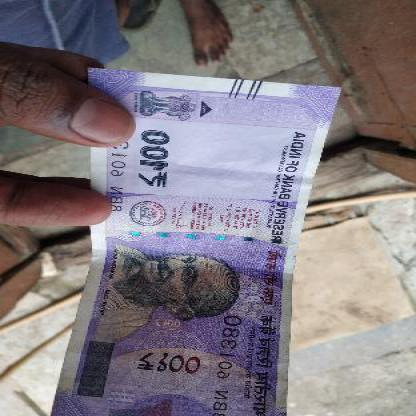New100Front: (74, 68, 322, 415)
